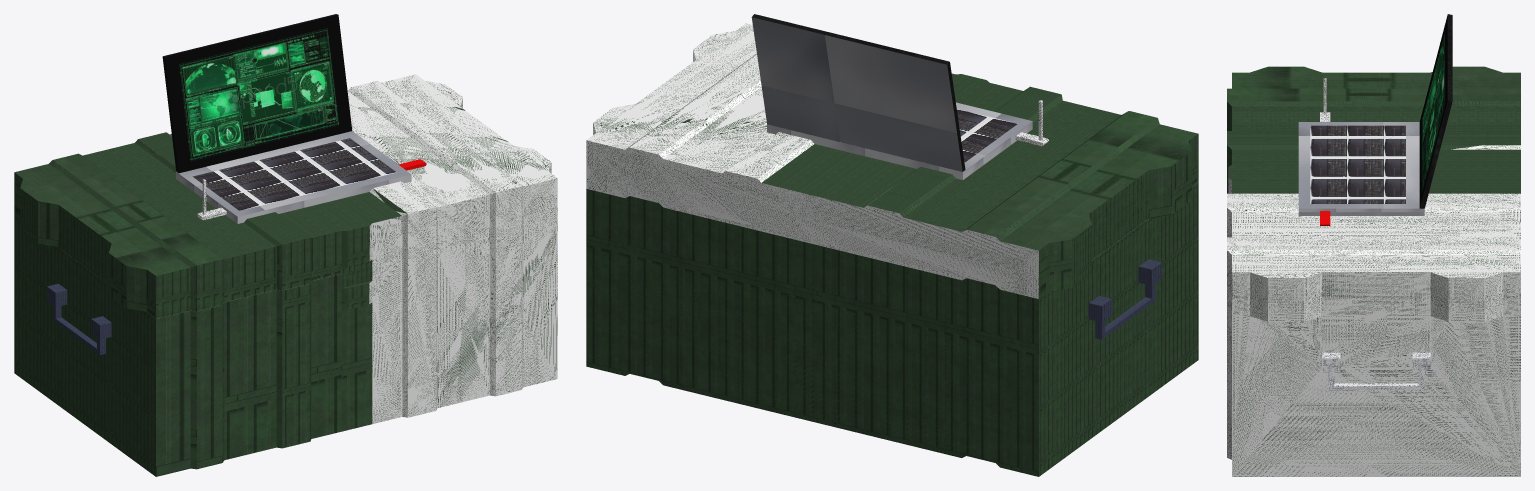
Rendered from Crate.dae.
The picture shows the model from 3 angles, left to right: view 1: azimuth 30°, elevation 25°; view 2: azimuth 150°, elevation 25°; view 3: azimuth 270°, elevation 25°; orthographic projection. The views are drawn at different scales.
Visible parts, largest first — view 1: SketchUp (×7), image_0; view 2: SketchUp (×8); view 3: SketchUp (×9), image_0.
Part boxes in pixels (x1,y1,x2,y2): SketchUp (×7): [14, 14, 557, 476]; image_0: [179, 28, 339, 161]; SketchUp (×8): [586, 14, 1198, 476]; SketchUp (×9): [1227, 14, 1520, 476]; image_0: [1421, 30, 1445, 193].
Size of the model in its own units: 136 by 80.06 by 96.29.
